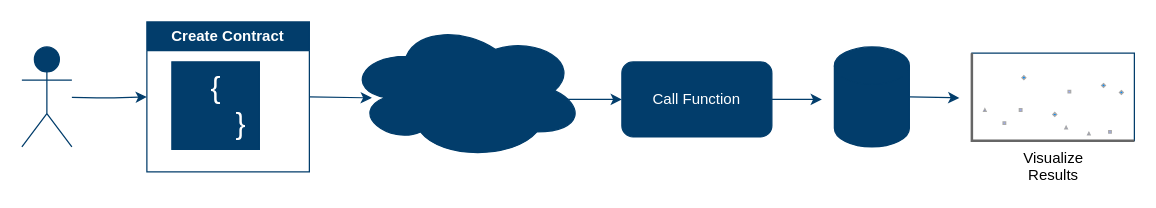
Some shapes in this 1156 by 208 pixel diagram are drawn without their labels. Each missing label, with the centre of its shape:
Deploy to Blockchain: the point at 465,90
Get Logs: the point at 871,96
